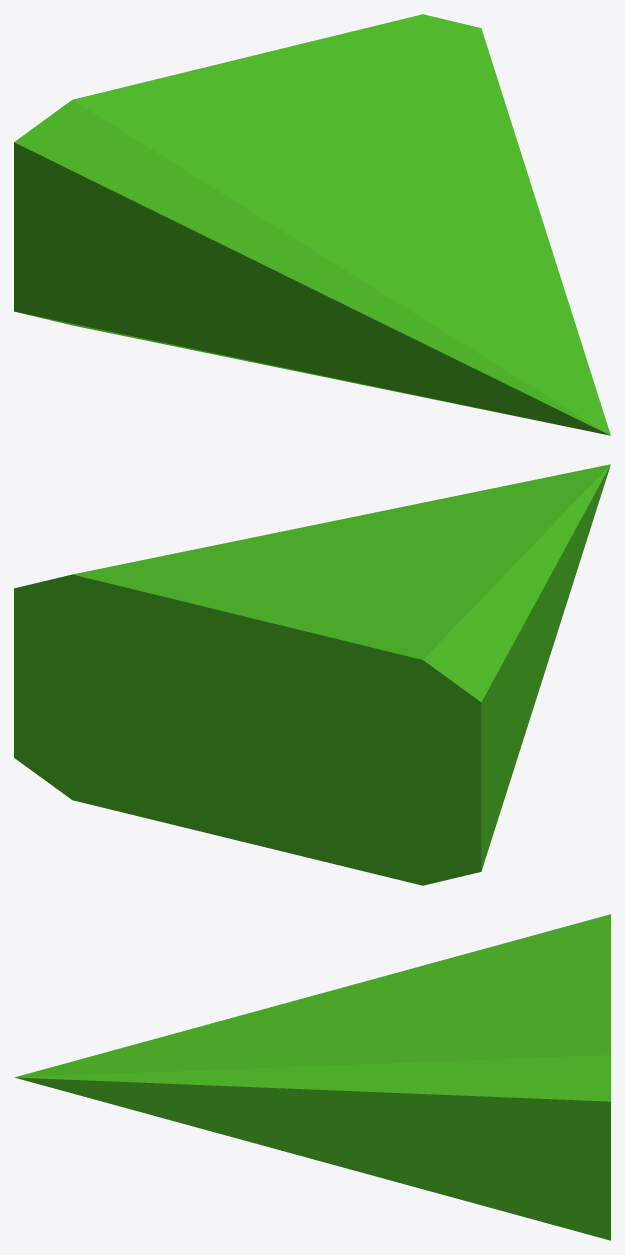
File: music_panel_play.glb
3 renders of one model, top to bottom at view 1: azimuth 30°, elevation 25°; view 2: azimuth 150°, elevation 25°; view 3: azimuth 270°, elevation 25°, orthographic. The views are drawn at different scales.
Parts seen in each view (by area): view 1: pyramid_bevel; view 2: pyramid_bevel; view 3: pyramid_bevel.
Part boxes in pixels (x1,y1,x2,y2): pyramid_bevel: [14, 14, 610, 435]; pyramid_bevel: [14, 464, 610, 885]; pyramid_bevel: [14, 914, 610, 1240].
Size of the model in its own units: 2.6 by 1.2 by 3.5.
